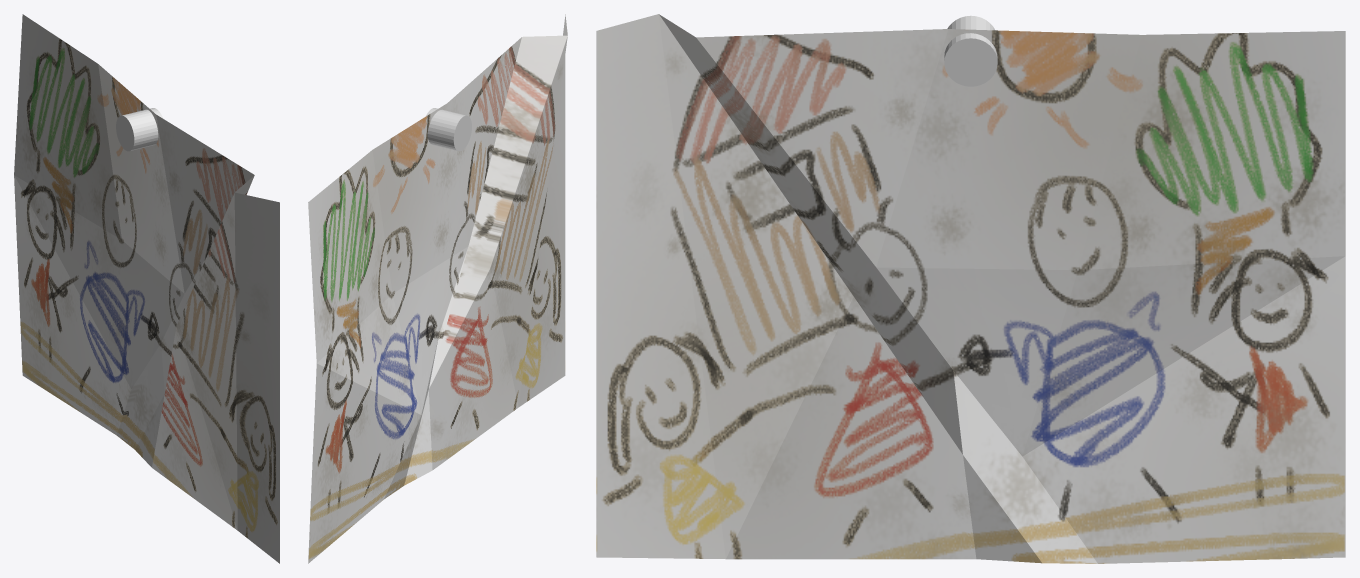
File: drawing.fbx
The picture shows the model from 3 angles, left to right: view 1: azimuth 30°, elevation 25°; view 2: azimuth 150°, elevation 25°; view 3: azimuth 270°, elevation 25°; orthographic projection. The views are drawn at different scales.
Visible parts, largest first — view 1: Paper, Pin; view 2: Paper, Pin; view 3: Paper, Pin.
Boxes of the visible parts, x1,y1,x2,y2 form: Paper: (14,14,279,563); Pin: (116,108,163,151); Paper: (308,14,567,563); Pin: (426,108,471,151); Paper: (596,14,1345,563); Pin: (944,15,997,86).
Bounding box in the file's own units: 200 × 155 × 16.54.
